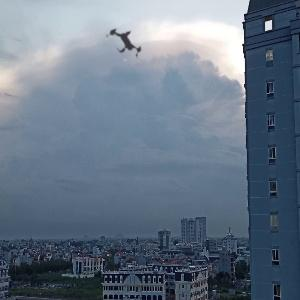drone: (95, 12, 160, 77)
